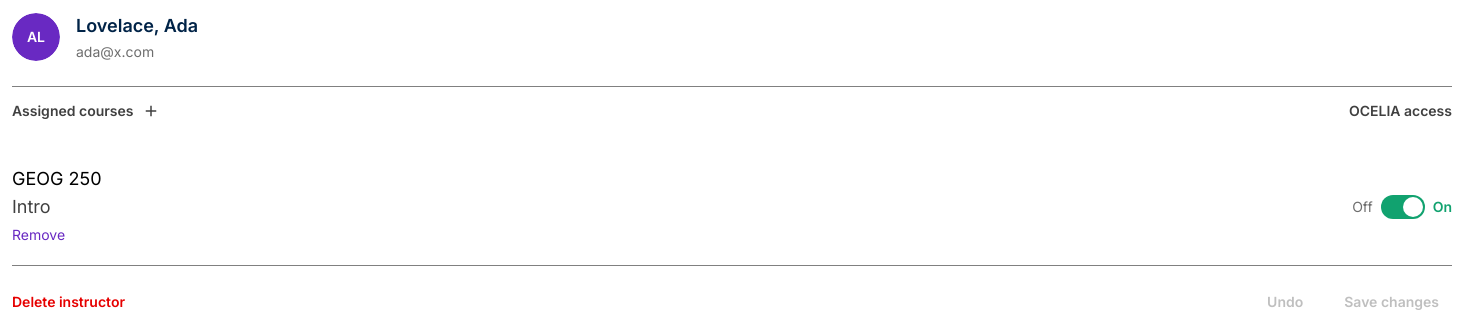
Test: InstructorDetail (staged editing) › waits for the assigned-courses refetch before clearing staged edits, so the toggle doesn't flip back
The image size is (1464, 333).
Note: Stage access OFF (server value is ON).
Step 1. Click the switch named "OCELIA access for GEOG 250 — Intro" → (1403, 207), box [1381,195,1425,219]
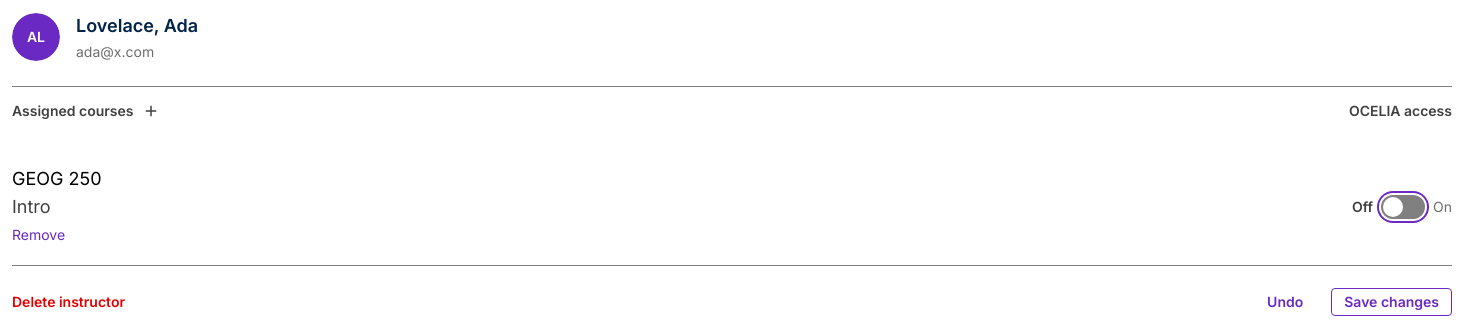
Result: the switch named "OCELIA access for GEOG 250 — Intro" is not checked at [1381,195,1425,219]
Step 2. Click the button "Save changes" → (1392, 302), box [1331,288,1452,316]
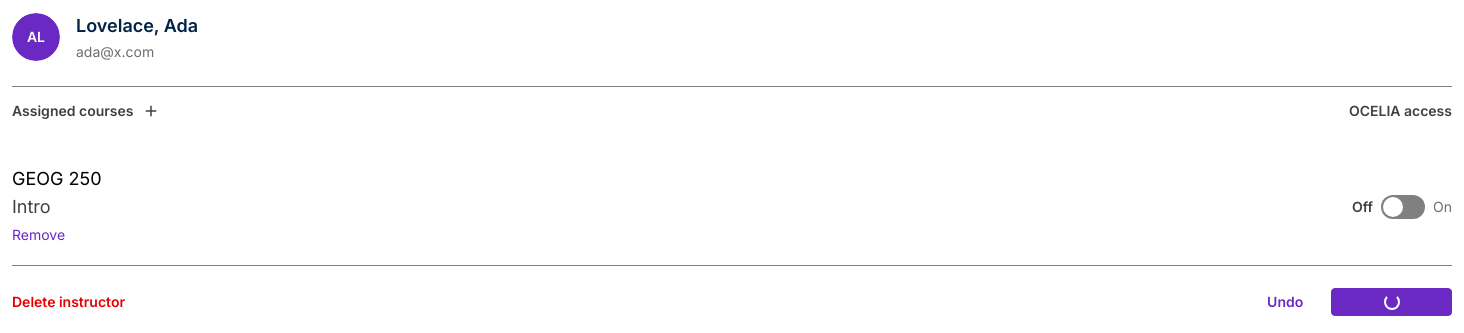
Result: the button named "Save changes" is disabled at [1331,288,1452,316]
